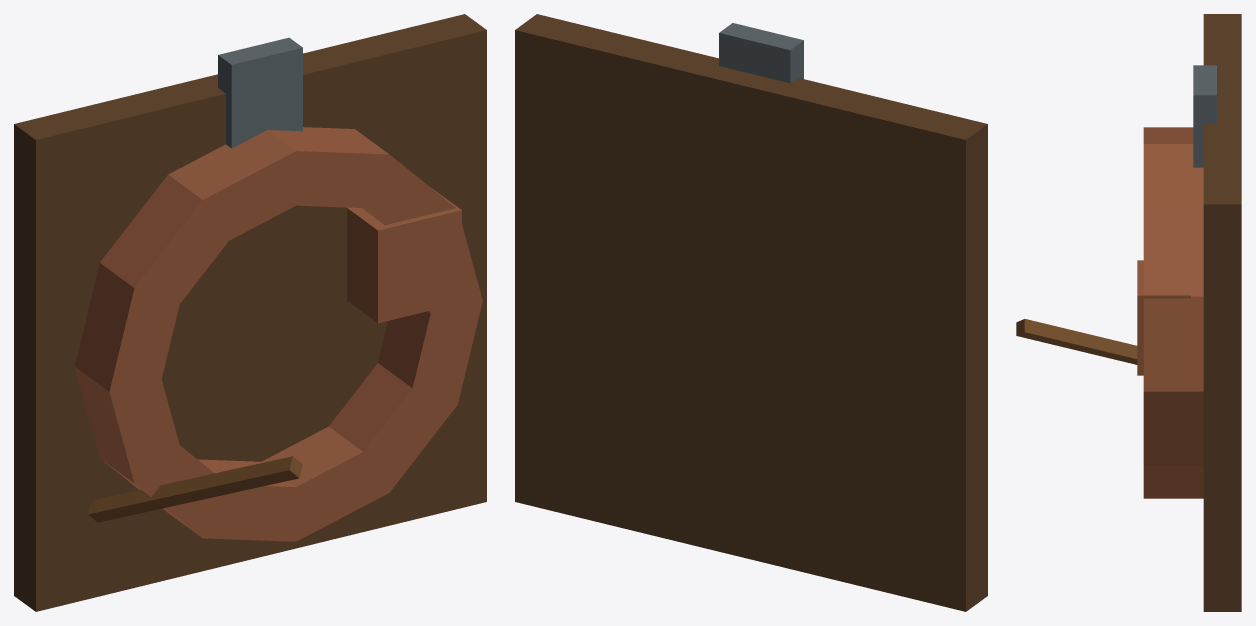
The model's file is clay-pit.obj.
3 views of the same model, side by side, from view 1: azimuth 30°, elevation 25°; view 2: azimuth 150°, elevation 25°; view 3: azimuth 270°, elevation 25° (orthographic). The views are drawn at different scales.
Visible parts, largest first — view 1: clay-pit_ground_base, clay-pit_excavated_lip, clay-pit_clay_heap, clay-pit_water_feed, clay-pit_shovel_handle; view 2: clay-pit_ground_base, clay-pit_water_feed; view 3: clay-pit_ground_base, clay-pit_excavated_lip, clay-pit_shovel_handle, clay-pit_water_feed, clay-pit_clay_heap.
Part boxes in pixels (x1,y1,x2,y2): clay-pit_ground_base: (14, 14, 486, 611); clay-pit_excavated_lip: (74, 127, 482, 541); clay-pit_clay_heap: (347, 188, 461, 323); clay-pit_water_feed: (218, 37, 302, 148); clay-pit_shovel_handle: (88, 456, 302, 522); clay-pit_ground_base: (515, 14, 987, 611); clay-pit_water_feed: (719, 23, 803, 83); clay-pit_ground_base: (1203, 14, 1241, 611); clay-pit_excavated_lip: (1143, 127, 1203, 498); clay-pit_shovel_handle: (1016, 319, 1137, 364); clay-pit_water_feed: (1193, 65, 1216, 167); clay-pit_clay_heap: (1137, 260, 1190, 375).
Bounding box in the file's own units: 2.85 × 3.05 × 1.43.
